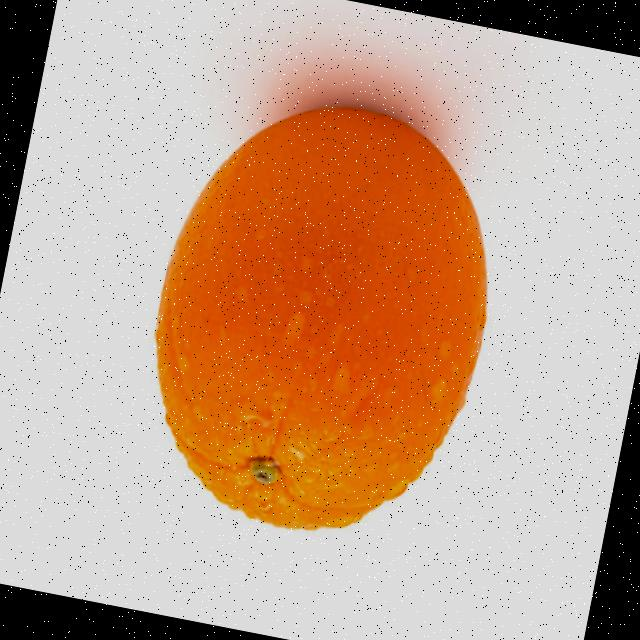Ripe: (120, 72, 531, 565)
